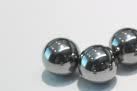ironball: (38, 37, 82, 77), (78, 43, 116, 84), (113, 26, 136, 68)
